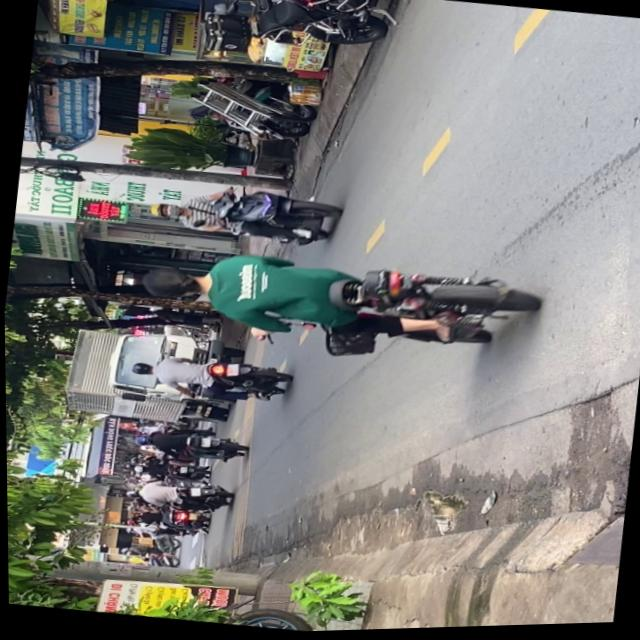helmet: (146, 200, 181, 220), (126, 360, 152, 377)
licenseplate: (129, 228, 541, 380), (143, 173, 341, 256), (123, 346, 290, 410)
motorcyclist: (137, 262, 207, 306)
nohelmet: (222, 364, 236, 377)
